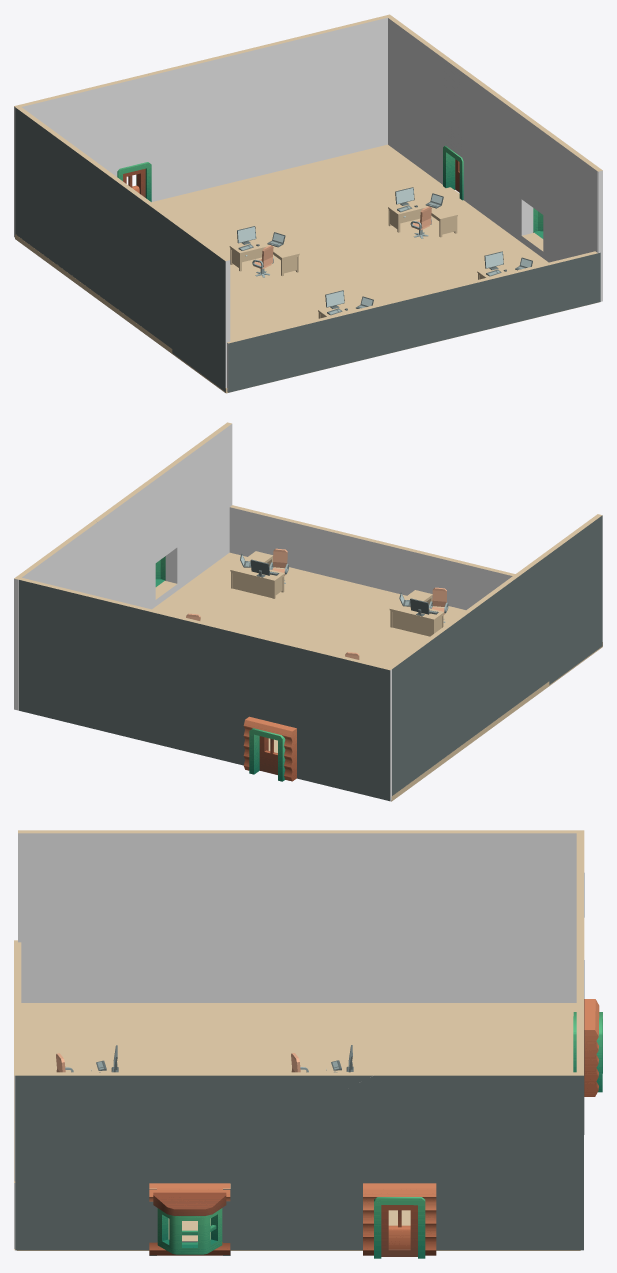
File: Level3Map.glb
3 renders of one model, top to bottom at view 1: azimuth 30°, elevation 25°; view 2: azimuth 150°, elevation 25°; view 3: azimuth 270°, elevation 25°, orthographic. The views are drawn at different scales.
Parts seen in each view (by area): view 1: floorFull.010, wall.012, wall.002, wall.003, wall.007, wall.004, wall.010, wall.009, wall.011, deskCorner.002, deskCorner.003, wall.008 (+1 smaller); view 2: wall.012, wall.002, floorFull.010, wall.007, wall.010, wall.003, wall.009, wall.004, cabin-door-rotate.001, deskCorner, deskCorner.001, wall.011 (+2 smaller); view 3: wall.002, floorFull.010, wall.007, wall.004, wall.005, wall.011, wall.008, cabin-window-large, cabin-door-rotate, cabin-door-rotate.001, door, wall.013 (+3 smaller).
Part boxes in pixels (x1,y1,x2,y2): floorFull.010: (15, 144, 598, 393); wall.012: (148, 15, 387, 201); wall.002: (15, 107, 230, 391); wall.003: (227, 251, 600, 392); wall.007: (463, 72, 597, 262); wall.004: (385, 14, 449, 184); wall.010: (14, 81, 118, 237); wall.009: (116, 73, 150, 171); wall.011: (444, 58, 467, 160); deskCorner.002: (388, 196, 457, 237); deskCorner.003: (229, 235, 299, 276); wall.008: (545, 131, 602, 301); wall.012: (19, 577, 258, 765); wall.002: (388, 514, 602, 795); floorFull.010: (152, 552, 602, 801); wall.007: (97, 424, 231, 609); wall.010: (287, 643, 392, 801); wall.003: (229, 505, 515, 609); wall.009: (256, 635, 289, 725); wall.004: (14, 534, 78, 710); cabin-door-rotate.001: (243, 716, 296, 781); deskCorner: (230, 551, 284, 598); deskCorner.001: (389, 590, 444, 636); wall.011: (74, 521, 97, 595); wall.002: (18, 830, 579, 1002); floorFull.010: (16, 1003, 580, 1250); wall.007: (15, 1072, 373, 1249); wall.004: (424, 1072, 583, 1250); wall.005: (229, 1072, 373, 1250); wall.011: (374, 1072, 423, 1183); wall.008: (14, 1072, 157, 1250); cabin-window-large: (149, 1183, 230, 1255); cabin-door-rotate: (363, 1183, 436, 1258); cabin-door-rotate.001: (573, 999, 602, 1096); door: (381, 1205, 417, 1256); wall.013: (150, 1146, 230, 1183).
Bounding box in the file's own units: 72.14 × 22.42 × 67.87.
Materials: 97 (3 with a texture image).
